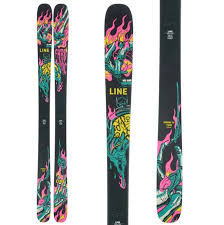skis: (103, 1, 184, 225), (33, 3, 70, 225)
